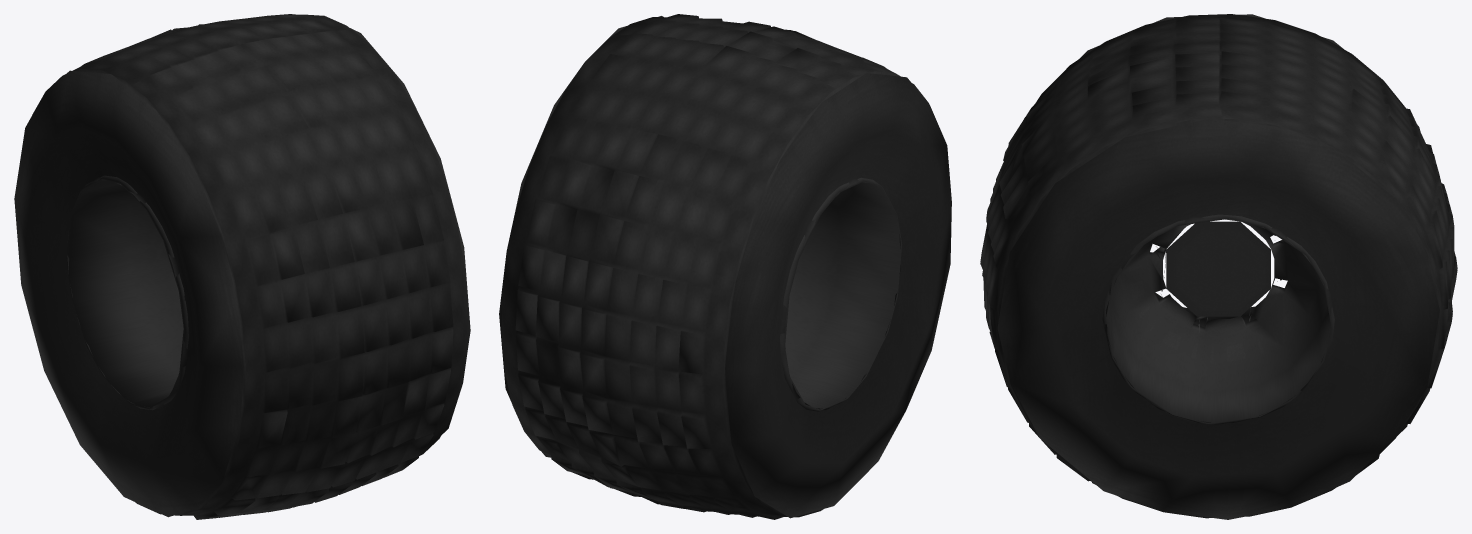
The model's file is TW_wheel_front_d2.obj.
3 renders of one model, left to right at view 1: azimuth 30°, elevation 25°; view 2: azimuth 150°, elevation 25°; view 3: azimuth 270°, elevation 25°, orthographic. The views are drawn at different scales.
Visible parts, largest first — view 1: TW_wheel_front; view 2: TW_wheel_front; view 3: TW_wheel_front.
Part boxes in pixels (box(x1,y1,x2,y2)): TW_wheel_front: box(14, 14, 470, 519); TW_wheel_front: box(499, 14, 951, 519); TW_wheel_front: box(980, 14, 1457, 519).
Size of the model in its own units: 0.5977 by 0.9819 by 0.9842.
Materials: 1 (1 with a texture image).
